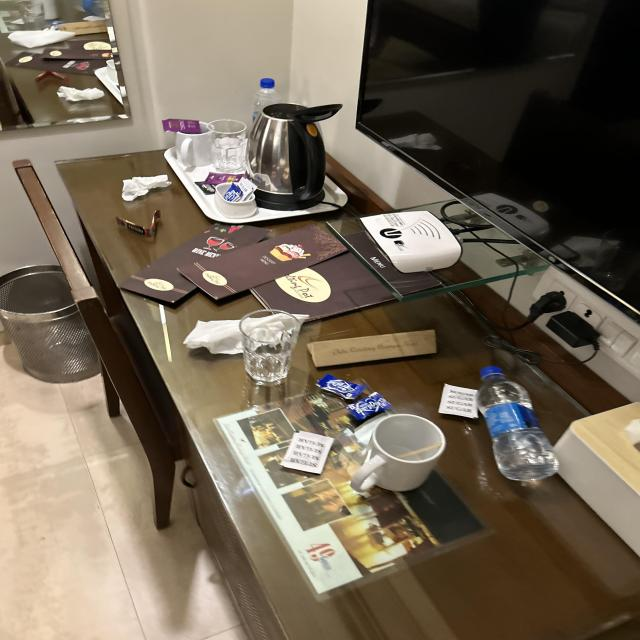mess: (0, 111, 619, 640)
